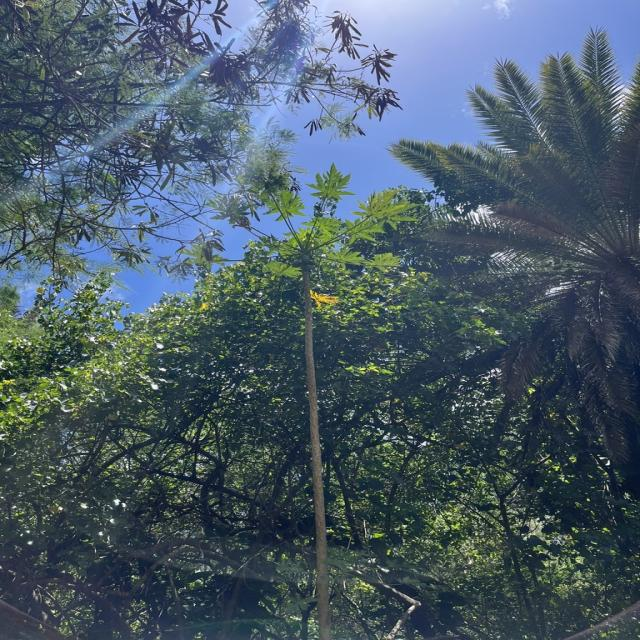Papaya-Tree: (237, 169, 438, 640)
